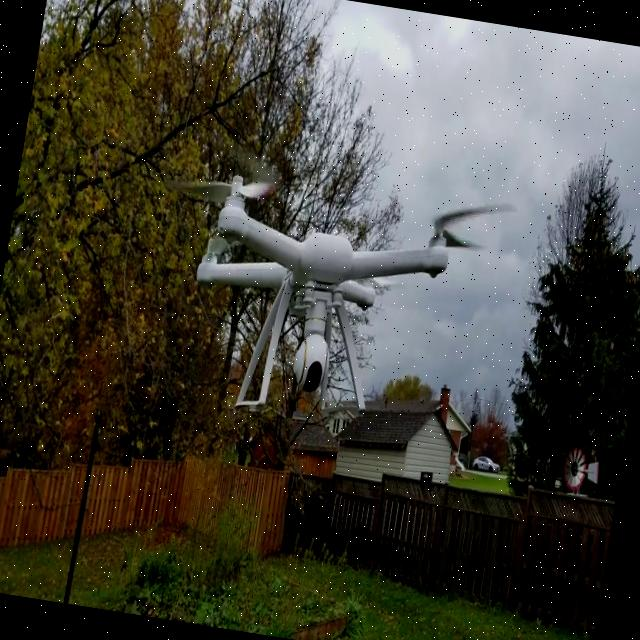drone: (138, 74, 527, 466)
